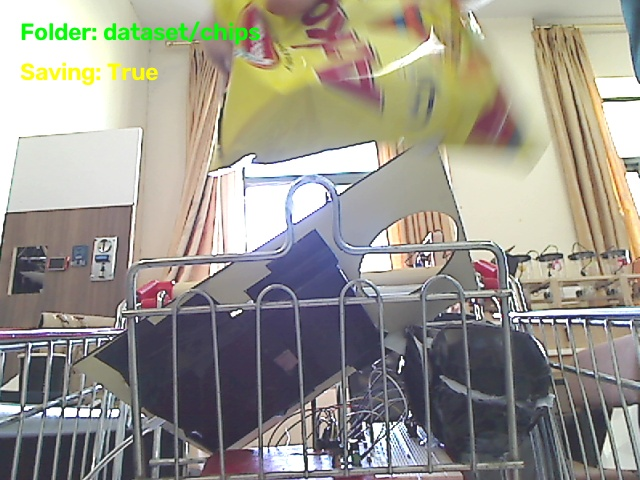chips: (211, 0, 522, 169)
